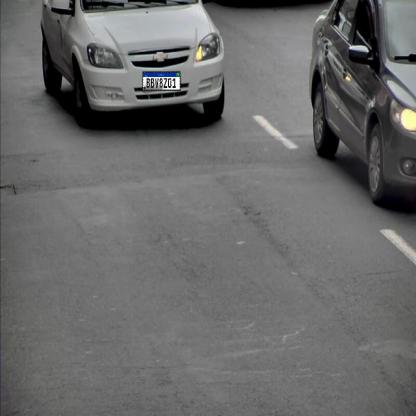PlacaM: (142, 71, 180, 91)
